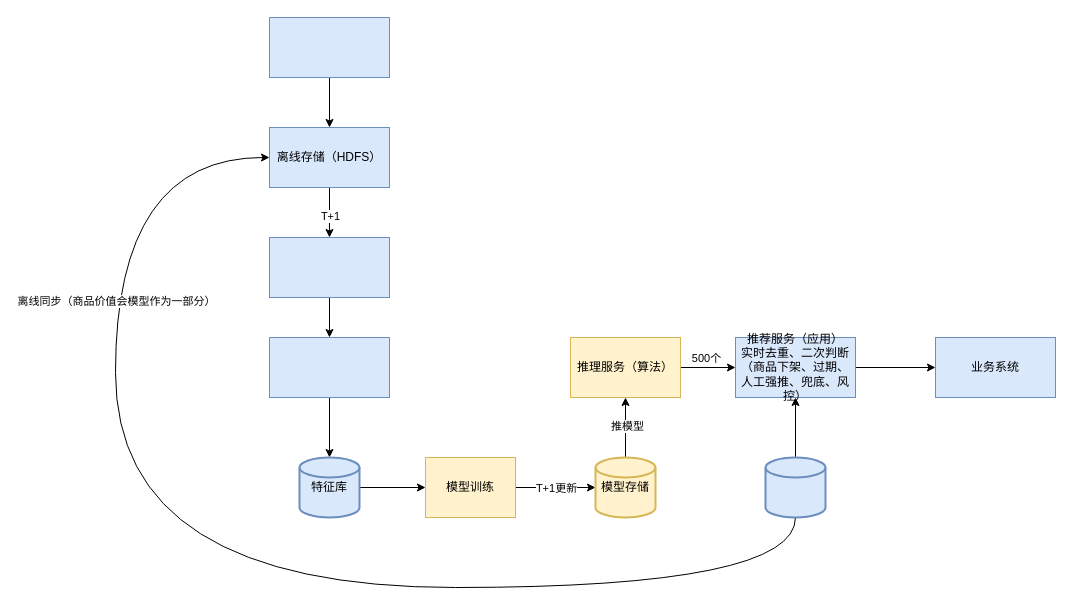
This 1073x605 diagram has some shape labels left out. Each missing label, with the box of its shape:
商品库: (764, 456, 826, 518)
数据清洗（预处理）: (268, 236, 390, 298)
核销数据、 APP停留数据 点击数据等等: (268, 16, 390, 78)
计算特征（Map Reduce、Flink）: (268, 336, 390, 398)
